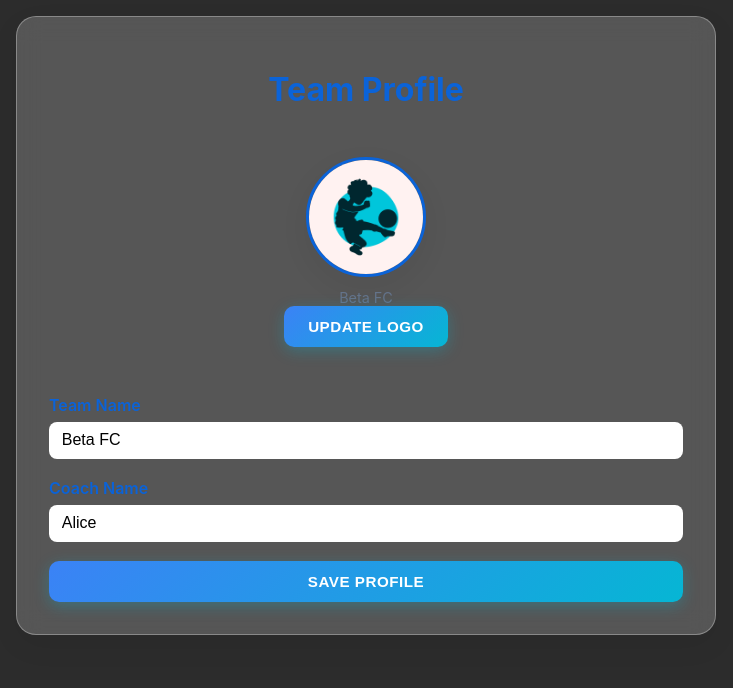
Test: CoachProfile Component › allows editing team and coach name
Replace the text in the field labelled "Team Name" with "Gamma FC" at {"x": 366, "y": 440}, box [49,422,683,459]
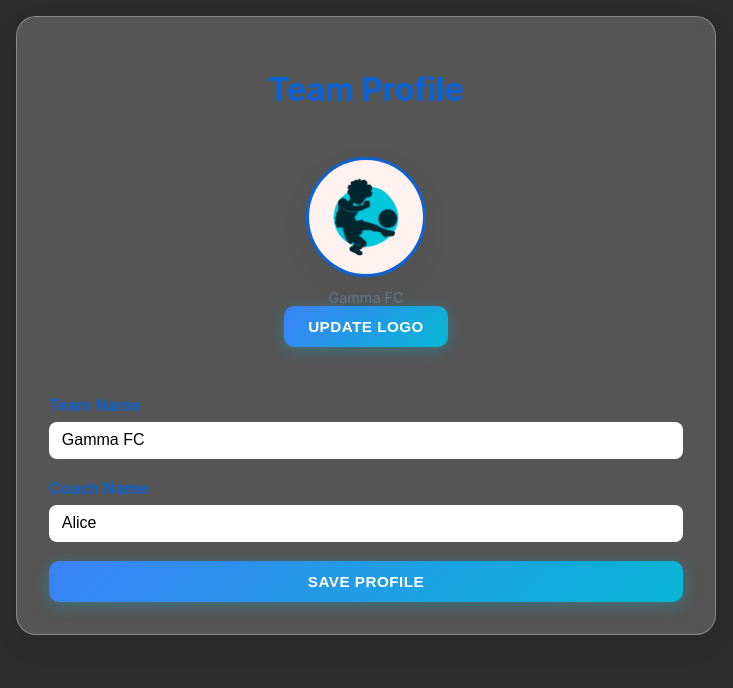
Replace the text in the field labelled "Coach Name" with "Bob" at {"x": 366, "y": 523}, box [49,505,683,542]
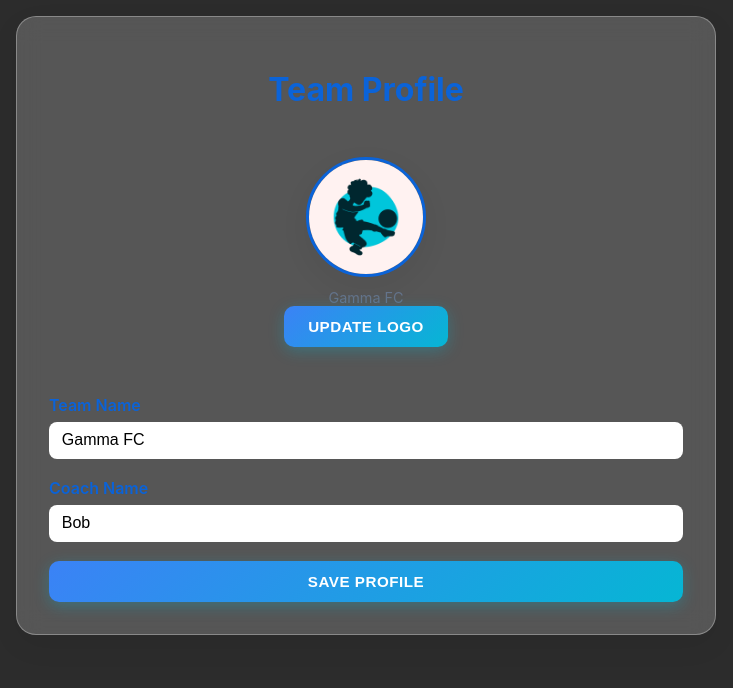
Click the button with aria-label "Save profile changes".
click(366, 582)  # box [49,561,683,602]
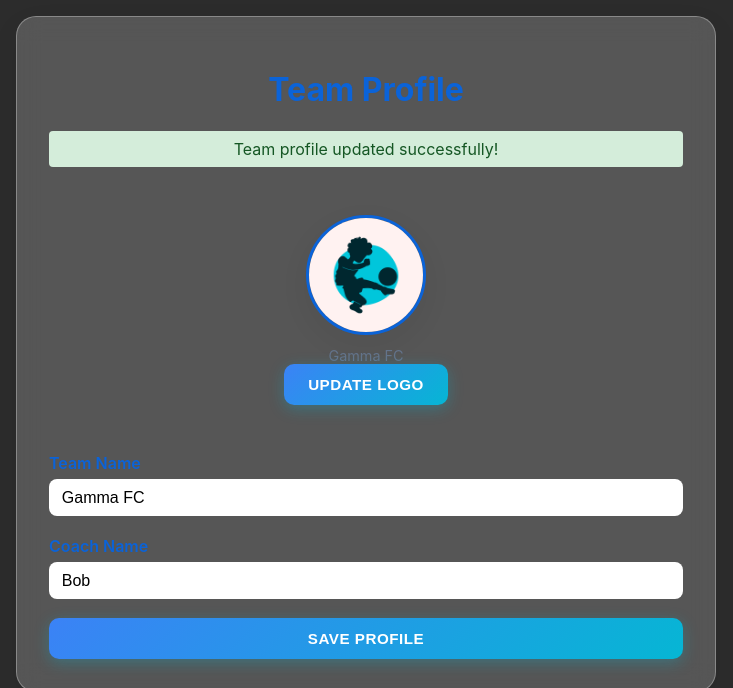
Expected: the text "Team profile updated successfully!" is shown, [49,131,683,167]
